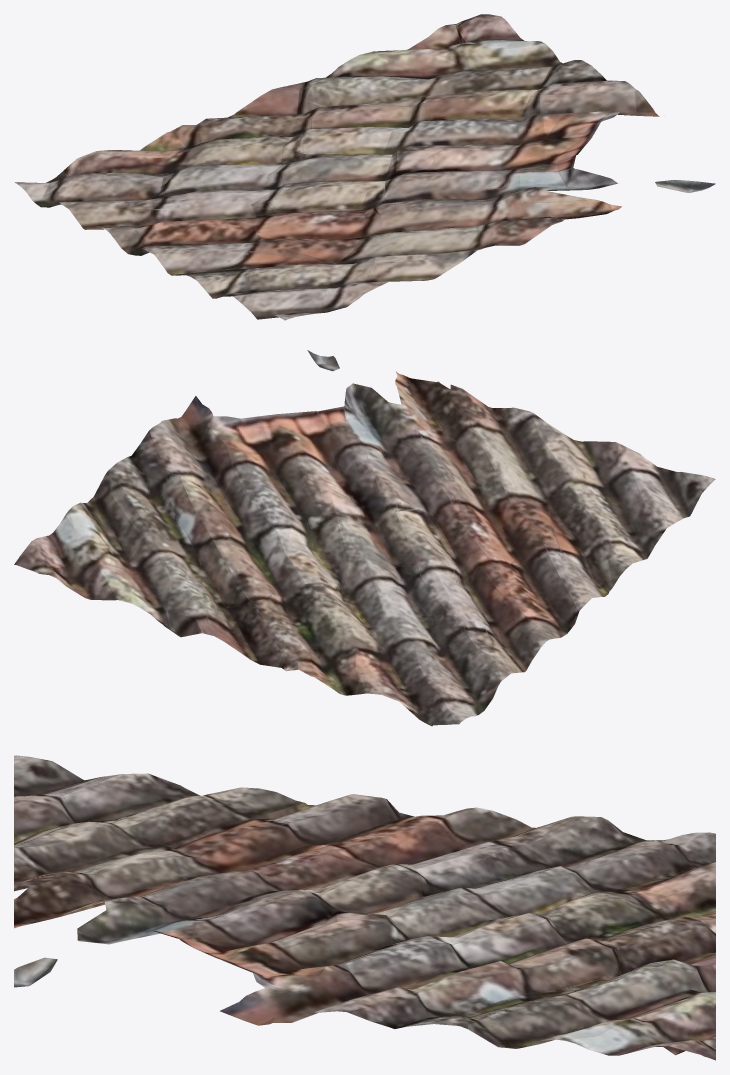
3 views of the same model, one above another, from view 1: azimuth 30°, elevation 25°; view 2: azimuth 150°, elevation 25°; view 3: azimuth 270°, elevation 25° (orthographic). The views are drawn at different scales.
Bounding box in the file's own units: 1.67 × 0.3447 × 1.67.
3 materials, 3 textured.
